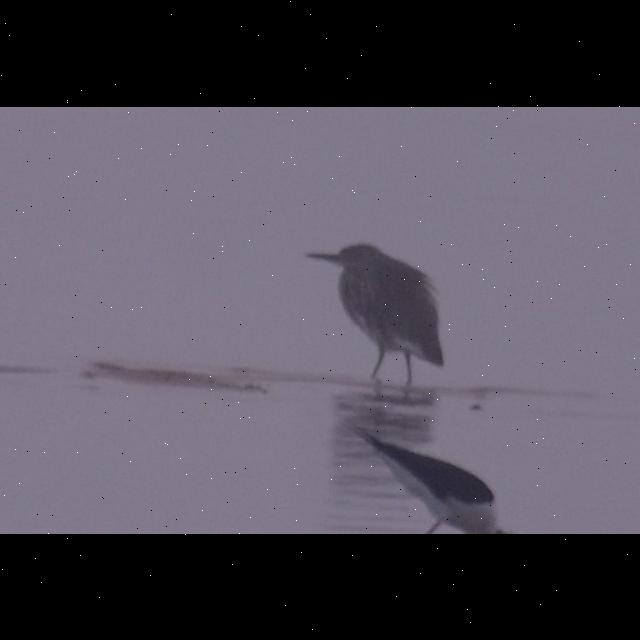heron: (297, 238, 448, 392)
